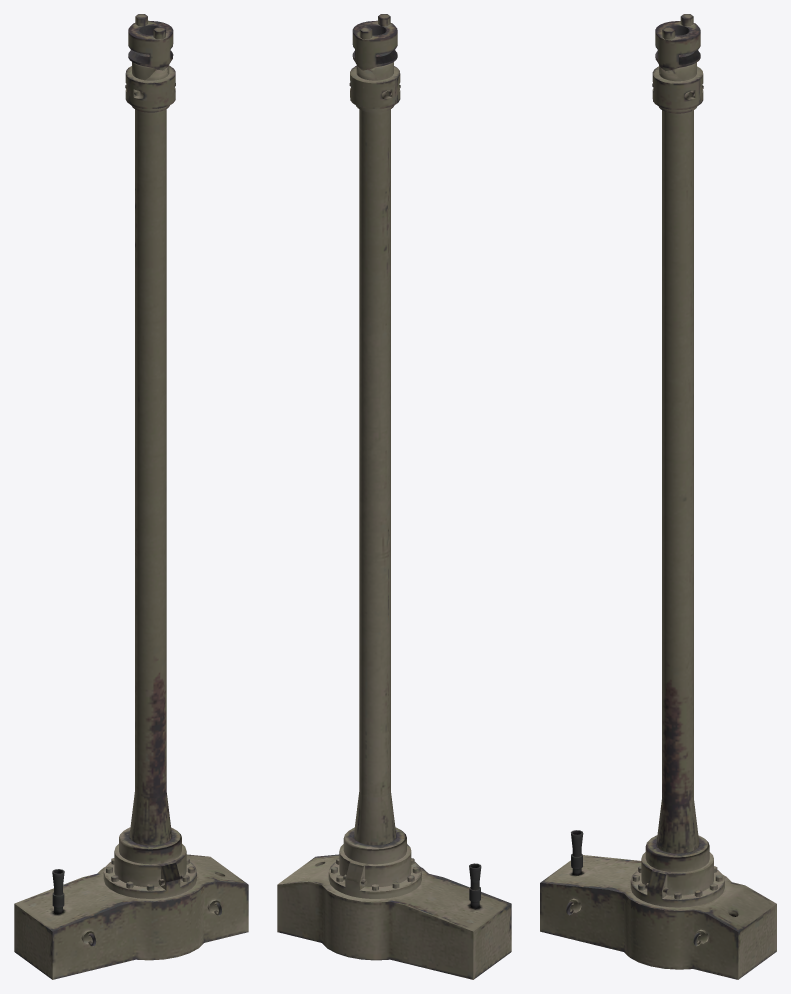
The model's file is Gun_06.glb.
The picture shows the model from 3 angles, left to right: view 1: azimuth 30°, elevation 25°; view 2: azimuth 150°, elevation 25°; view 3: azimuth 330°, elevation 25°; orthographic projection.
Parts seen in each view (by area): view 1: set_0_group_0; view 2: set_0_group_0; view 3: set_0_group_0.
Boxes of the visible parts, box(x1,y1,x2,y2) form: set_0_group_0: box(14, 14, 248, 979); set_0_group_0: box(277, 14, 511, 979); set_0_group_0: box(540, 14, 776, 979).
Bounding box in the file's own units: 1.04 × 4.63 × 0.4985.
1 material, 1 textured.
